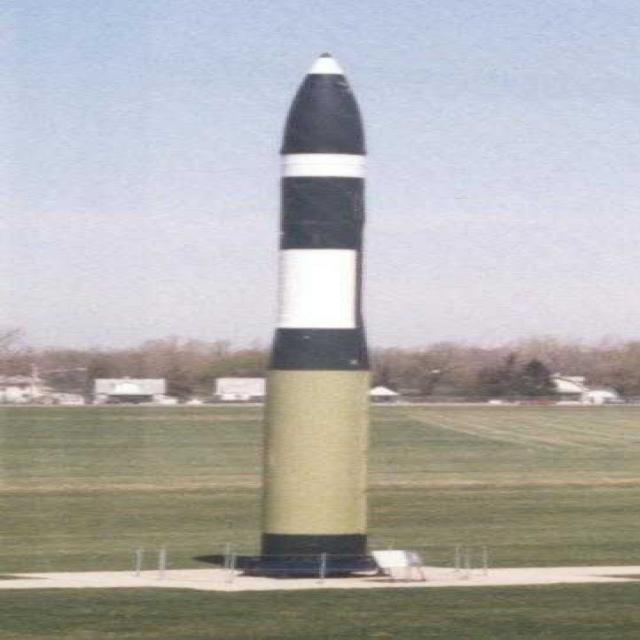missile: (223, 47, 401, 583)
